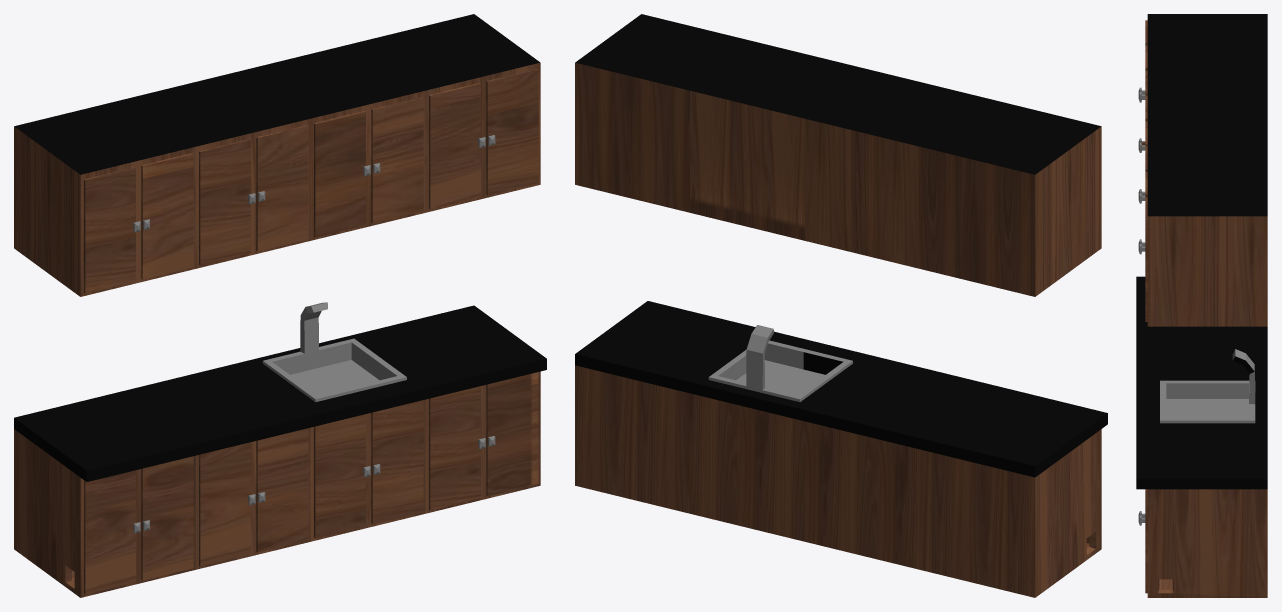
Rendered from counter final 1.fbx.
3 renders of one model, left to right at view 1: azimuth 30°, elevation 25°; view 2: azimuth 150°, elevation 25°; view 3: azimuth 270°, elevation 25°, orthographic. The views are drawn at different scales.
Visible parts, largest first — view 1: Cube.001; view 2: Cube.001; view 3: Cube.001.
Boxes of the visible parts, x1,y1,x2,y2 form: Cube.001: (14, 14, 546, 597); Cube.001: (575, 14, 1107, 597); Cube.001: (1136, 14, 1267, 597).
Bounding box in the file's own units: 801 × 703 × 219.
